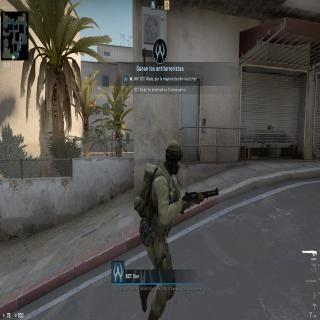CT-Head: (164, 138, 184, 180)
